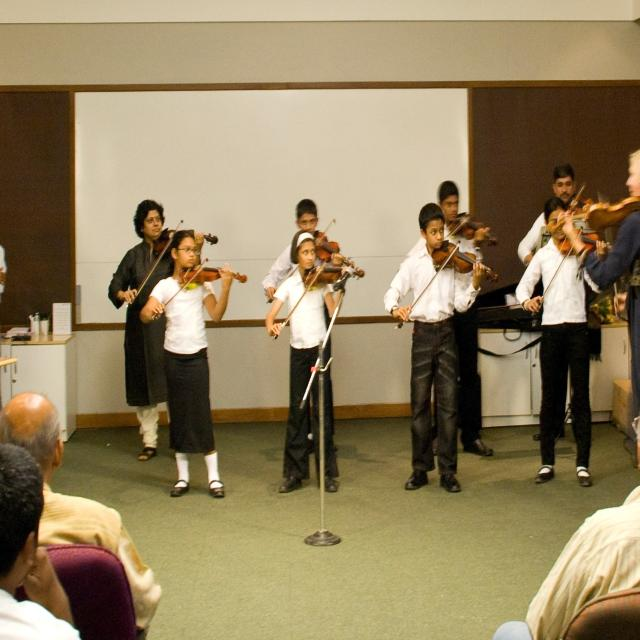violin: (543, 196, 640, 230), (430, 239, 499, 284), (302, 230, 354, 270), (178, 262, 249, 291), (152, 227, 220, 257), (550, 224, 615, 255), (300, 262, 367, 292), (448, 211, 492, 237), (567, 197, 593, 221)
